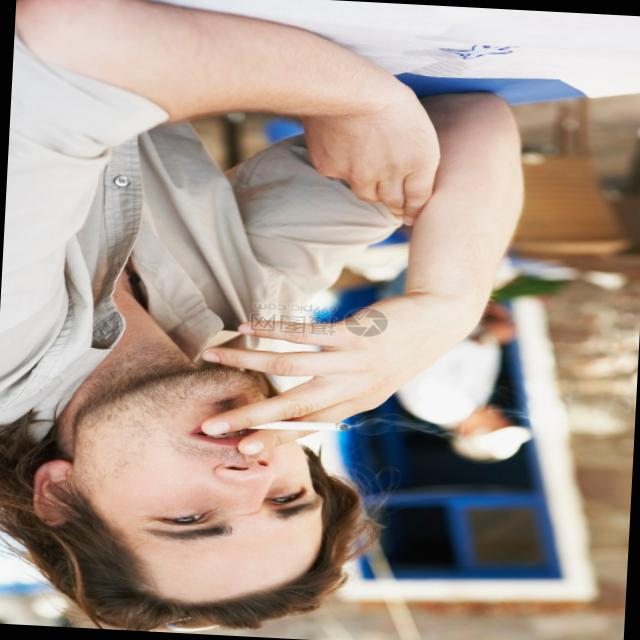smoke: (228, 414, 372, 438)
